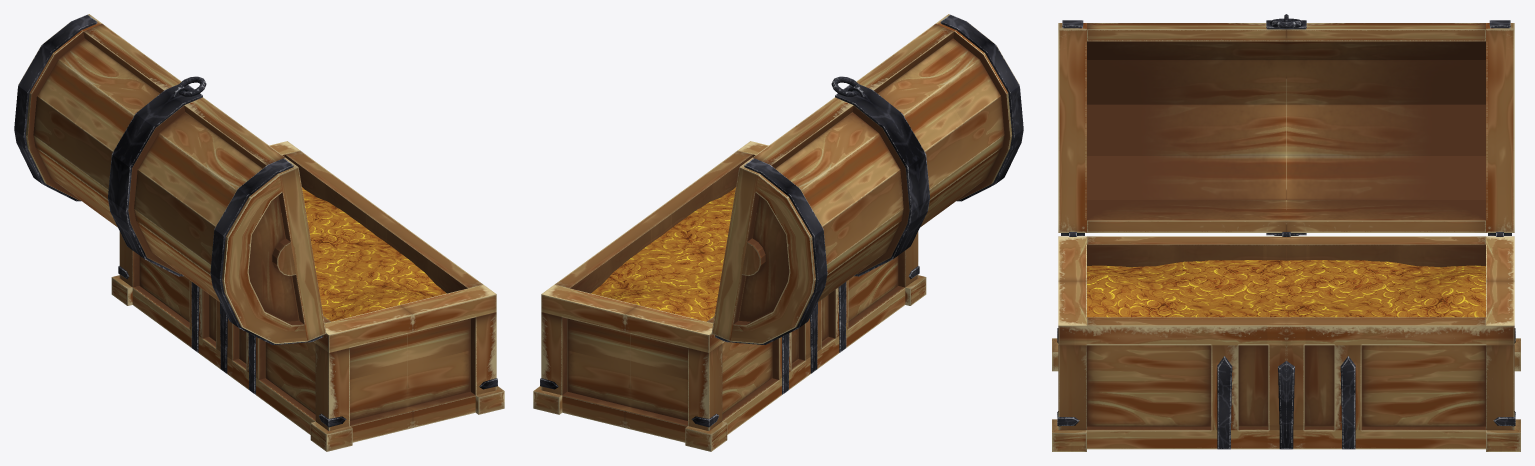
Rendered from open .fbx.
The picture shows the model from 3 angles, left to right: view 1: azimuth 30°, elevation 25°; view 2: azimuth 150°, elevation 25°; view 3: azimuth 270°, elevation 25°; orthographic projection. The views are drawn at different scales.
Parts seen in each view (by area): view 1: chest_top_2, chest_bot_2, gold; view 2: chest_top_2, chest_bot_2, gold; view 3: chest_top_2, chest_bot_2, gold.
Boxes of the visible parts, bbox=[...] form: chest_top_2: bbox=[14, 14, 326, 344]; chest_bot_2: bbox=[111, 141, 504, 451]; gold: bbox=[302, 187, 446, 321]; chest_top_2: bbox=[711, 14, 1023, 344]; chest_bot_2: bbox=[533, 141, 926, 451]; gold: bbox=[591, 187, 735, 321]; chest_top_2: bbox=[1058, 14, 1514, 236]; chest_bot_2: bbox=[1052, 236, 1520, 451]; gold: bbox=[1087, 260, 1485, 317].
Size of the model in its own units: 115 by 118 by 153.
